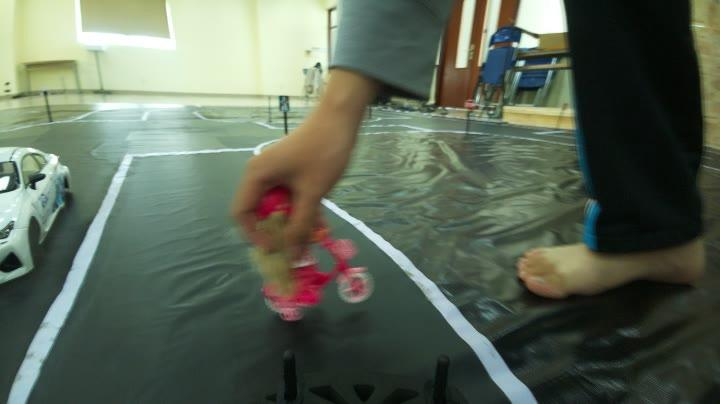pedestrian: (238, 194, 368, 318)
